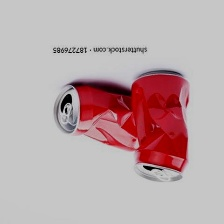can: (127, 68, 200, 185), (43, 81, 147, 156)
